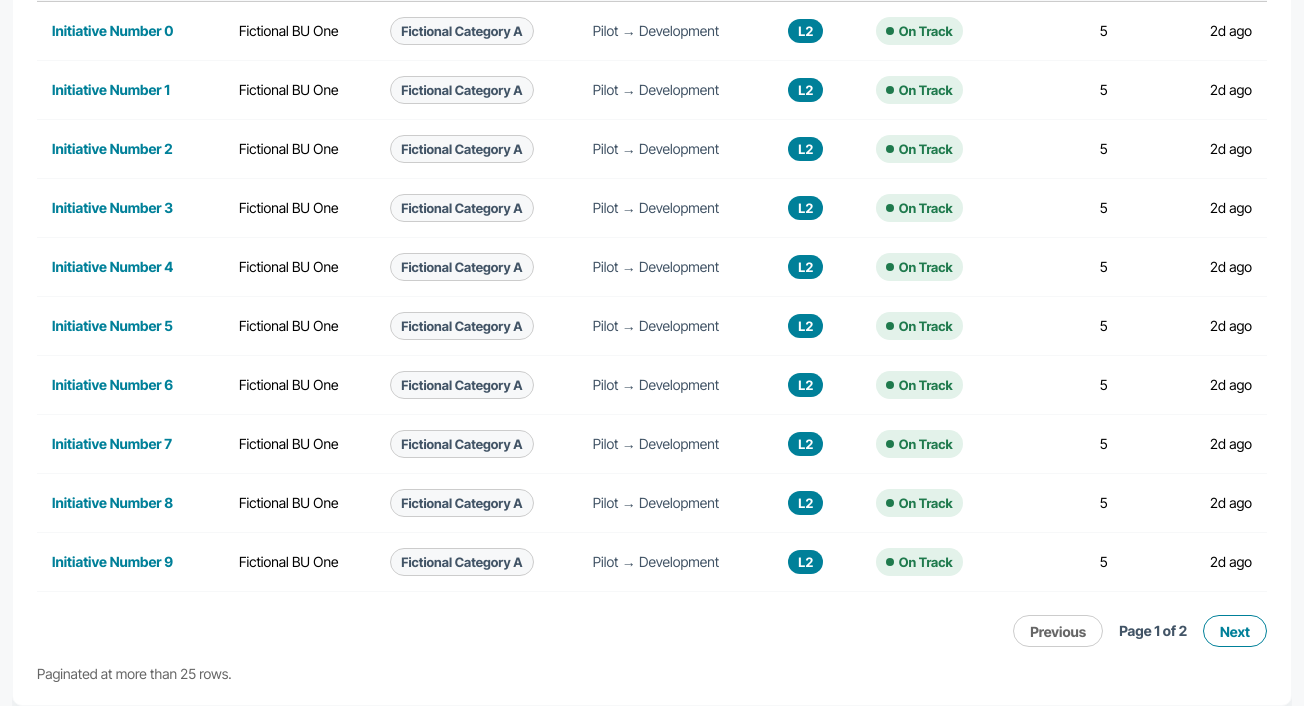
Test: RegisterListScreen (HAP-13; register-list mockup) › paginates above 25 rows
The width and height of the screenshot is (1304, 706).
(page scrolled)
Expected: the button "Initiative Number 0" is shown, top-left (52, 22), bottom-right (174, 39)
Expected: the text "Initiative Number 25" is not shown
Click the button "Next" at (1235, 631), box top-left (1203, 615), bottom-right (1267, 647)
(page scrolled)
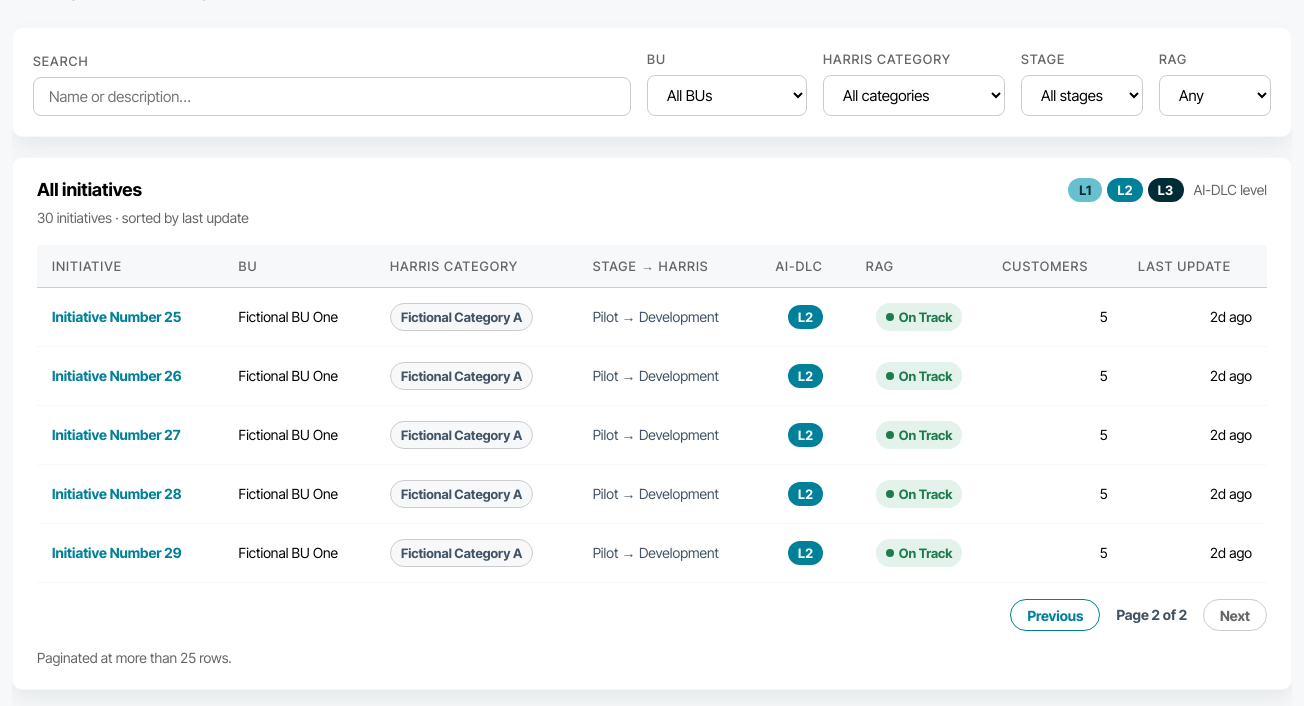
Expected: the button "Initiative Number 25" is shown, top-left (52, 308), bottom-right (181, 325)
Expected: the button "Initiative Number 0" is gone
